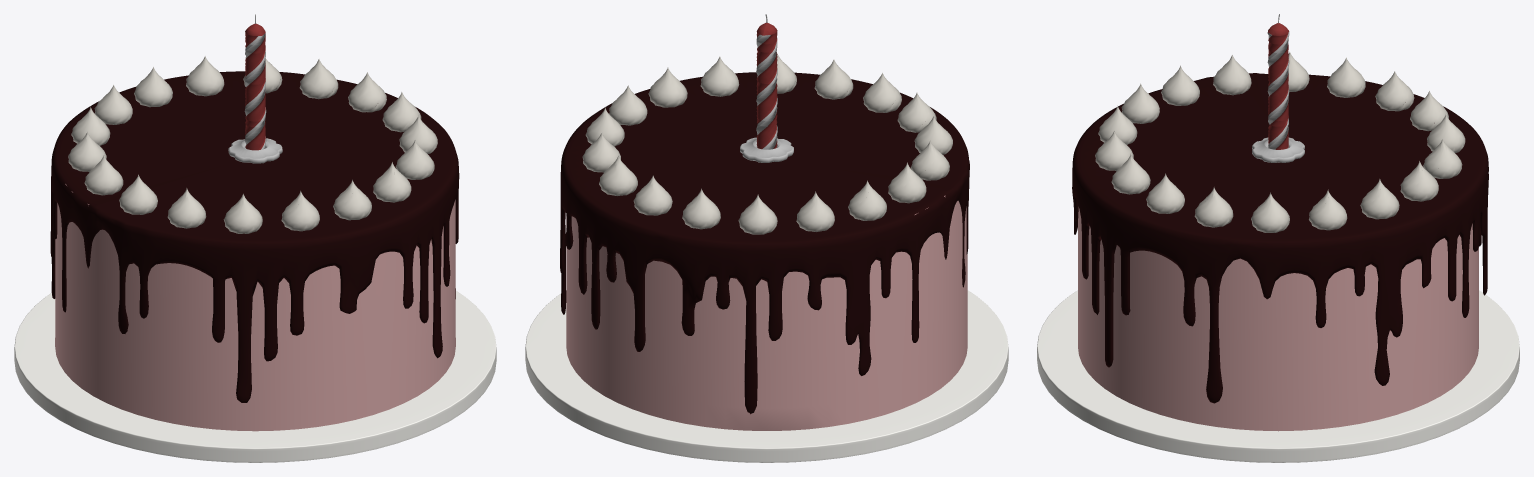
The model's file is cake.f2cd2536c9.glb.
3 renders of one model, left to right at view 1: azimuth 30°, elevation 25°; view 2: azimuth 150°, elevation 25°; view 3: azimuth 270°, elevation 25°, orthographic.
Parts seen in each view (by area): view 1: pCylinder3_1003_0, pCylinder5_1002_0, pCylinder29_1004_0, pCylinder3_1001_0, Candle_1005_0, Candle_1006_0; view 2: pCylinder3_1003_0, pCylinder5_1002_0, pCylinder29_1004_0, pCylinder3_1001_0, Candle_1005_0, Candle_1006_0; view 3: pCylinder3_1003_0, pCylinder5_1002_0, pCylinder29_1004_0, pCylinder3_1001_0, Candle_1005_0, Candle_1006_0.
Boxes of the visible parts, left/top/right/bottom form: pCylinder3_1003_0: left=50, top=71, right=459, bottom=402; pCylinder5_1002_0: left=55, top=184, right=455, bottom=431; pCylinder29_1004_0: left=14, top=291, right=496, bottom=462; pCylinder3_1001_0: left=68, top=56, right=437, bottom=233; Candle_1005_0: left=228, top=14, right=282, bottom=163; Candle_1006_0: left=245, top=23, right=265, bottom=150; pCylinder3_1003_0: left=560, top=72, right=969, bottom=414; pCylinder5_1002_0: left=566, top=195, right=967, bottom=430; pCylinder29_1004_0: left=525, top=290, right=1008, bottom=462; pCylinder3_1001_0: left=582, top=53, right=952, bottom=234; Candle_1005_0: left=740, top=14, right=793, bottom=162; Candle_1006_0: left=756, top=23, right=777, bottom=149; pCylinder3_1003_0: left=1072, top=73, right=1488, bottom=403; pCylinder5_1002_0: left=1078, top=75, right=1478, bottom=431; pCylinder29_1004_0: left=1037, top=290, right=1519, bottom=462; pCylinder3_1001_0: left=1095, top=52, right=1465, bottom=232; Candle_1005_0: left=1252, top=14, right=1304, bottom=162; Candle_1006_0: left=1268, top=23, right=1288, bottom=149.
Size of the model in its own units: 0.3 by 0.238 by 0.3.
Materials: 6 (1 with a texture image).
